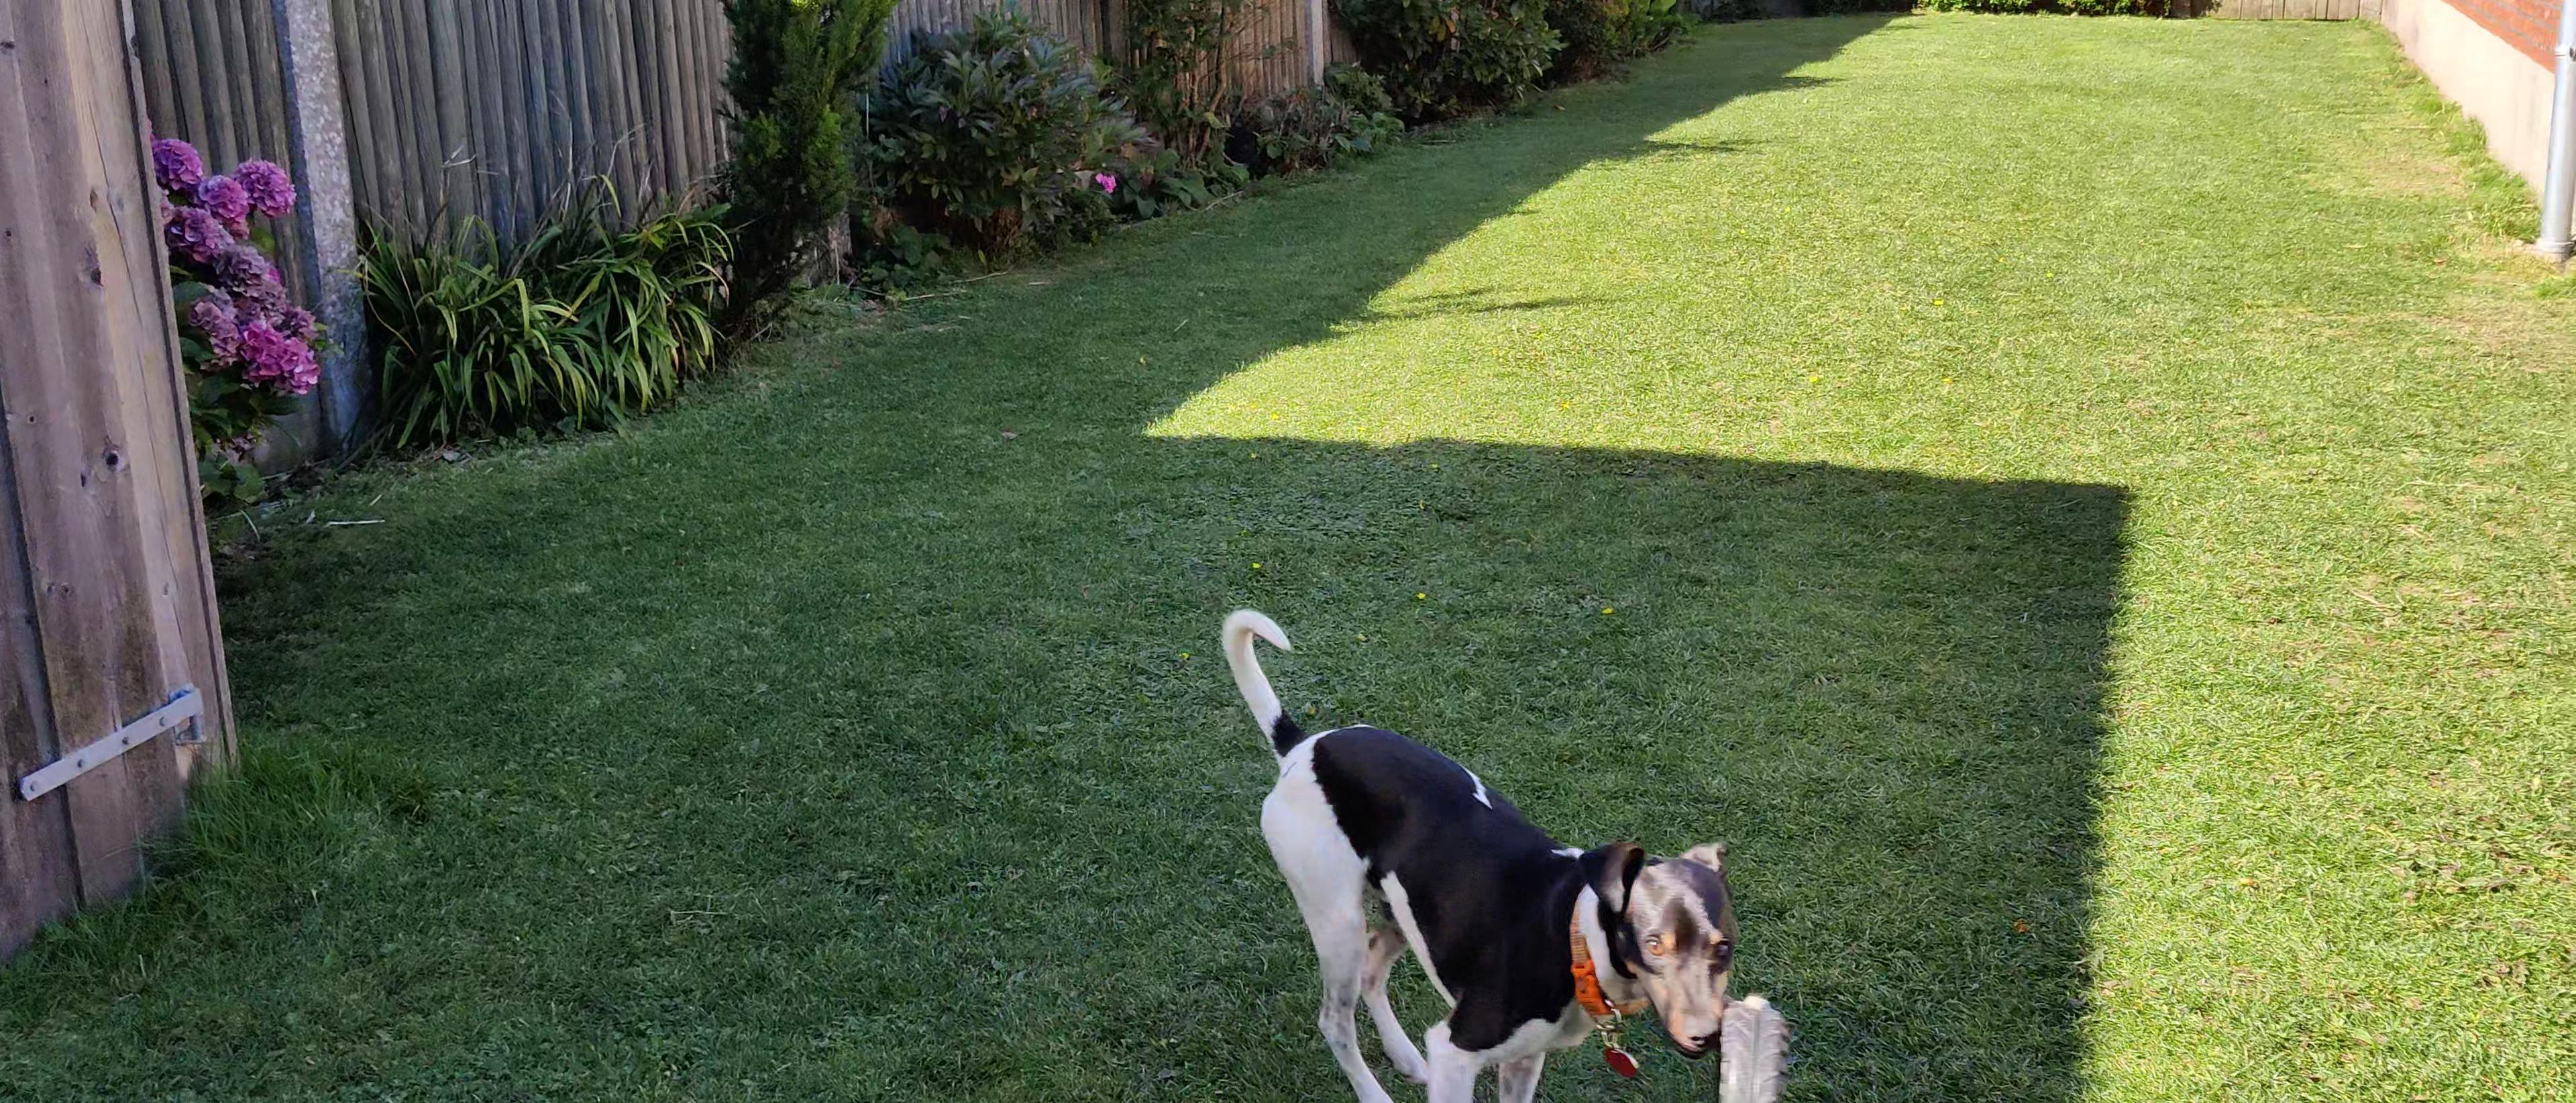Dog: (1189, 592, 1755, 1103)
